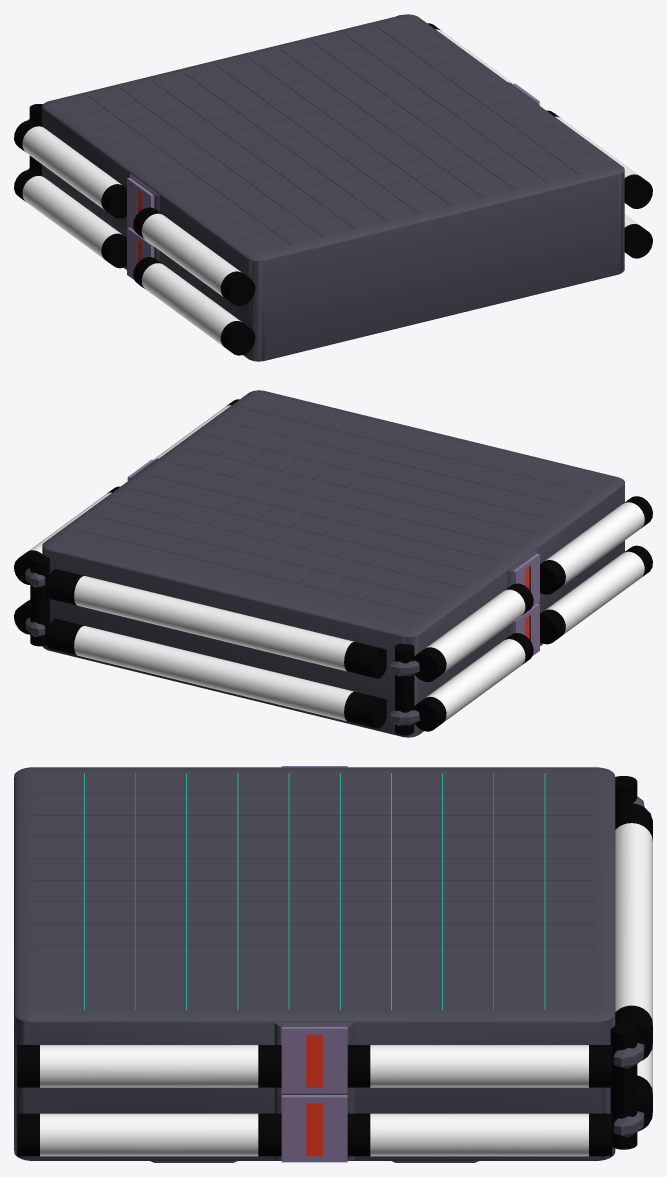
The model's file is PlataformaModuloFinal MarcoCanton.fbx.
3 views of the same model, one above another, from view 1: azimuth 30°, elevation 25°; view 2: azimuth 150°, elevation 25°; view 3: azimuth 270°, elevation 25° (orthographic). The views are drawn at different scales.
Visible parts, largest first — view 1: Modulo Final2; view 2: Modulo Final2; view 3: Modulo Final2.
Boxes of the visible parts, x1,y1,x2,y2 form: Modulo Final2: (14,14,652,361); Modulo Final2: (14,390,652,737); Modulo Final2: (14,766,652,1162).
Size of the model in its own units: 226 by 72.27 by 213.
4 materials, 4 textured.
